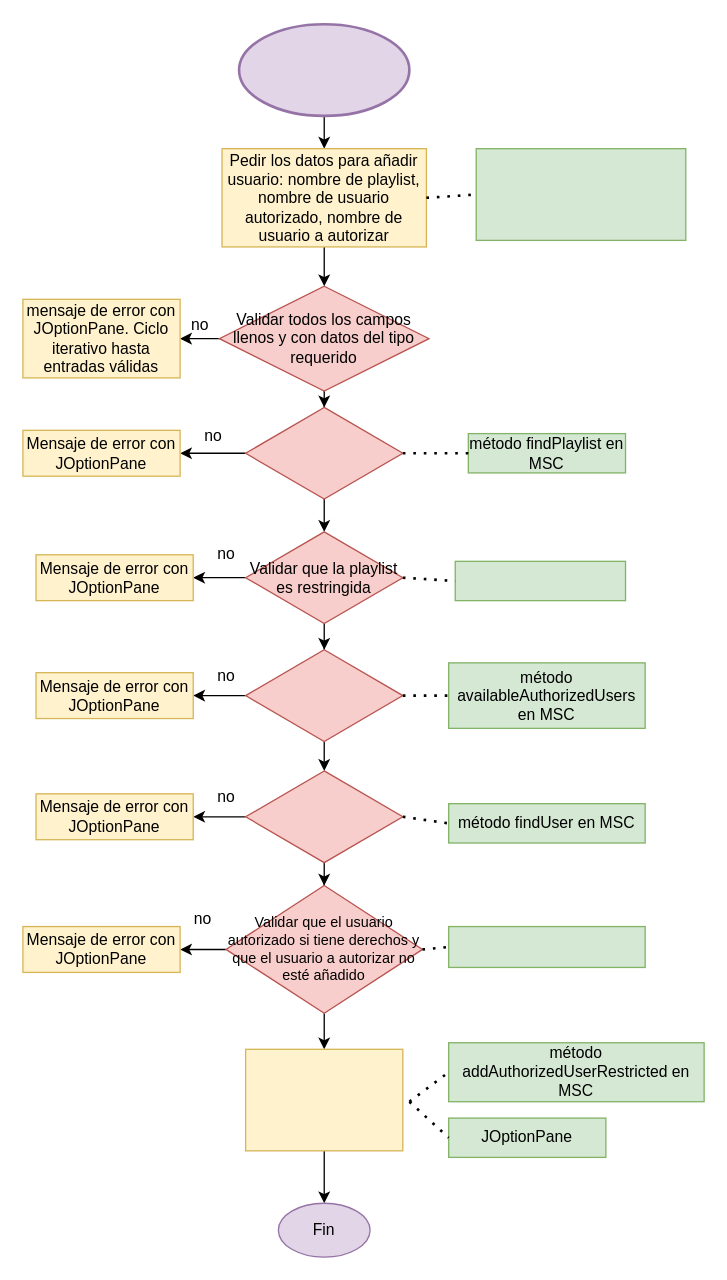
Image size: 727x1280. Some labels were removed from this diagram. The centre of each missing label's shape, as x and y in pixels:
Entradas aceptadas. Usuario añadido como autorizado Mensaje de proceso exitoso: the point at 323,1099
método addAuthorizedUser en Main Captura de datos: JOptionPane: the point at 580,193
método findAuthorizedUser en MSC: the point at 546,946
método findPlaylistType en MSC: the point at 540,580
R11. Añadir usuarios autorizados a una playlist restringida: the point at 323,69
Validar que hay espacio para usuarios autorizados: the point at 323,694
Validar que la playlist existe: the point at 323,452
Validar que los usuarios existen: the point at 323,816
